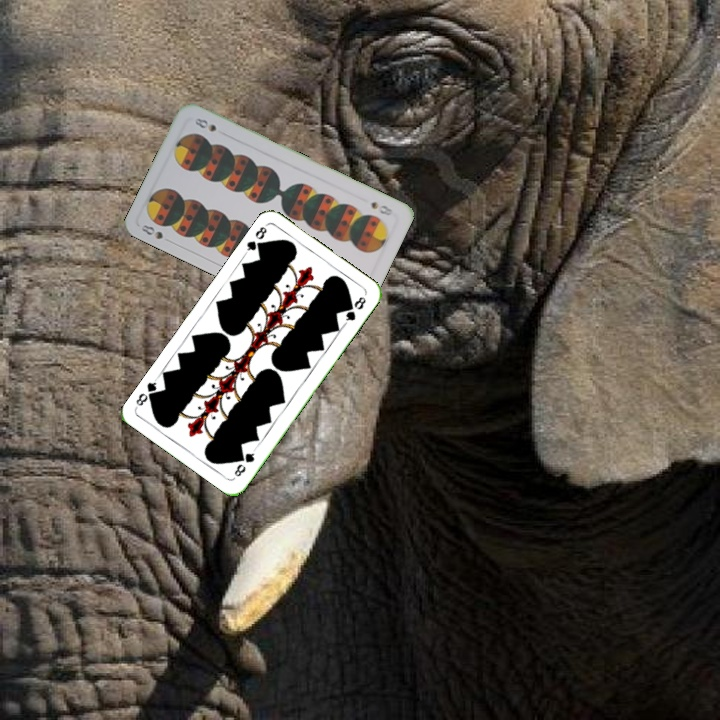G8: (241, 221, 269, 257), (230, 445, 258, 479)
S8: (137, 220, 175, 246), (367, 197, 395, 218)
